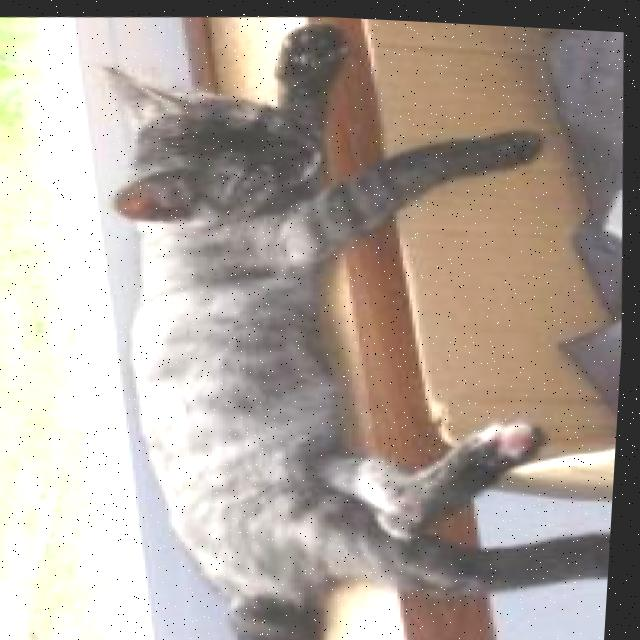American Bobtail: (65, 4, 640, 640)
